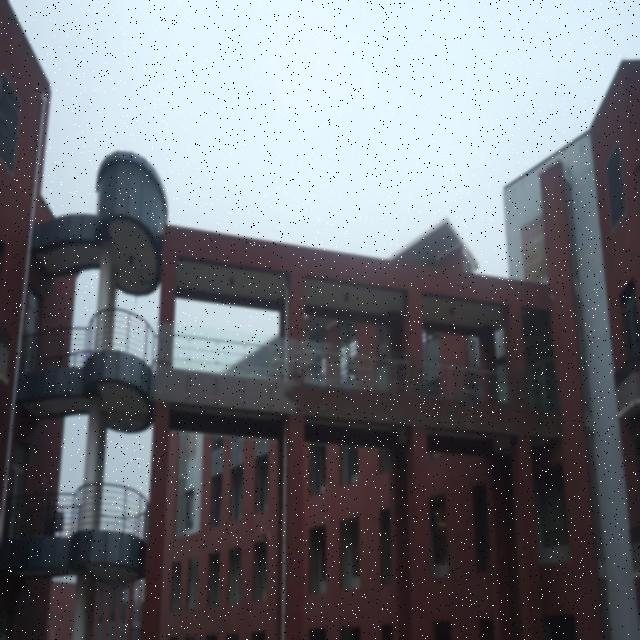UAV: (258, 525, 272, 542)
